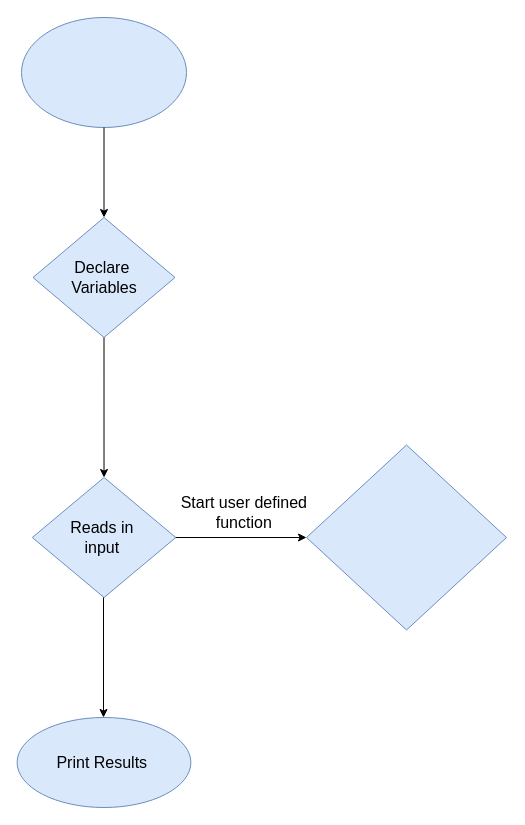
Image size: 525x825. Some labels were removed from this diagram. Each missing label, with the box of its shape:
Performs Calculations Length*Width: (306, 444, 506, 630)
Start Case: 6 Area of a Parallelogram: (20, 16, 186, 128)
